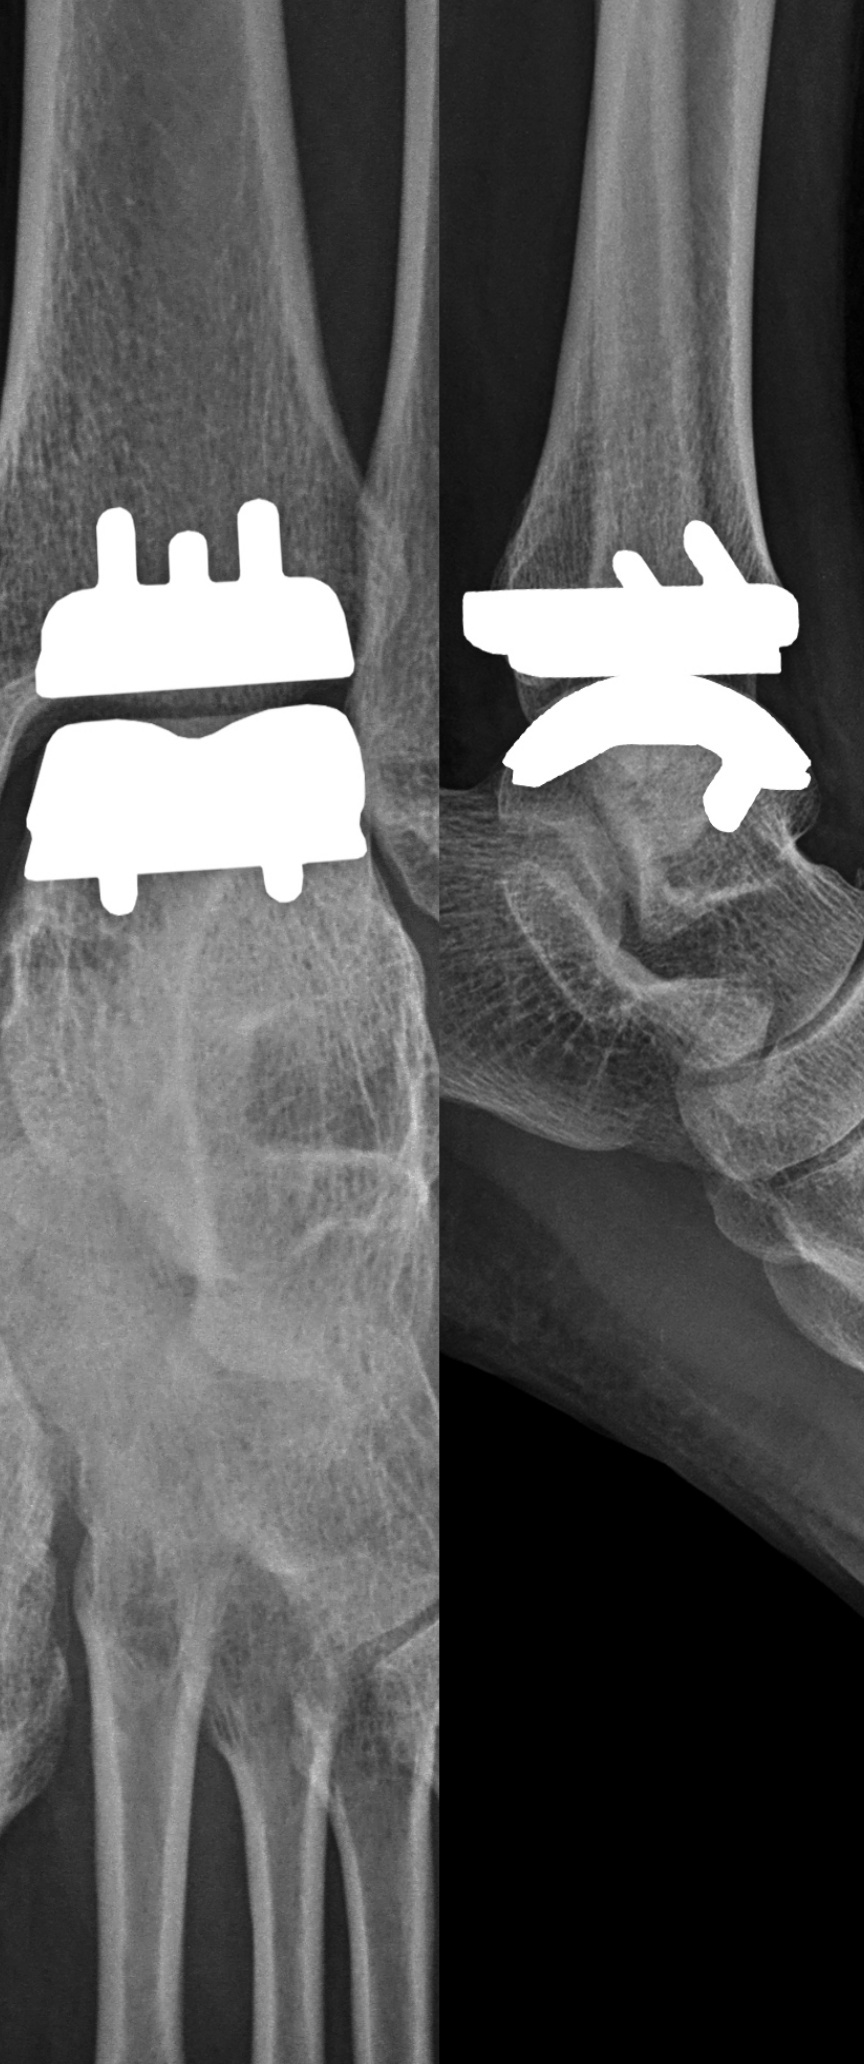Ankle - Infinity - Wright: (11, 479, 381, 942), (448, 505, 822, 848)
